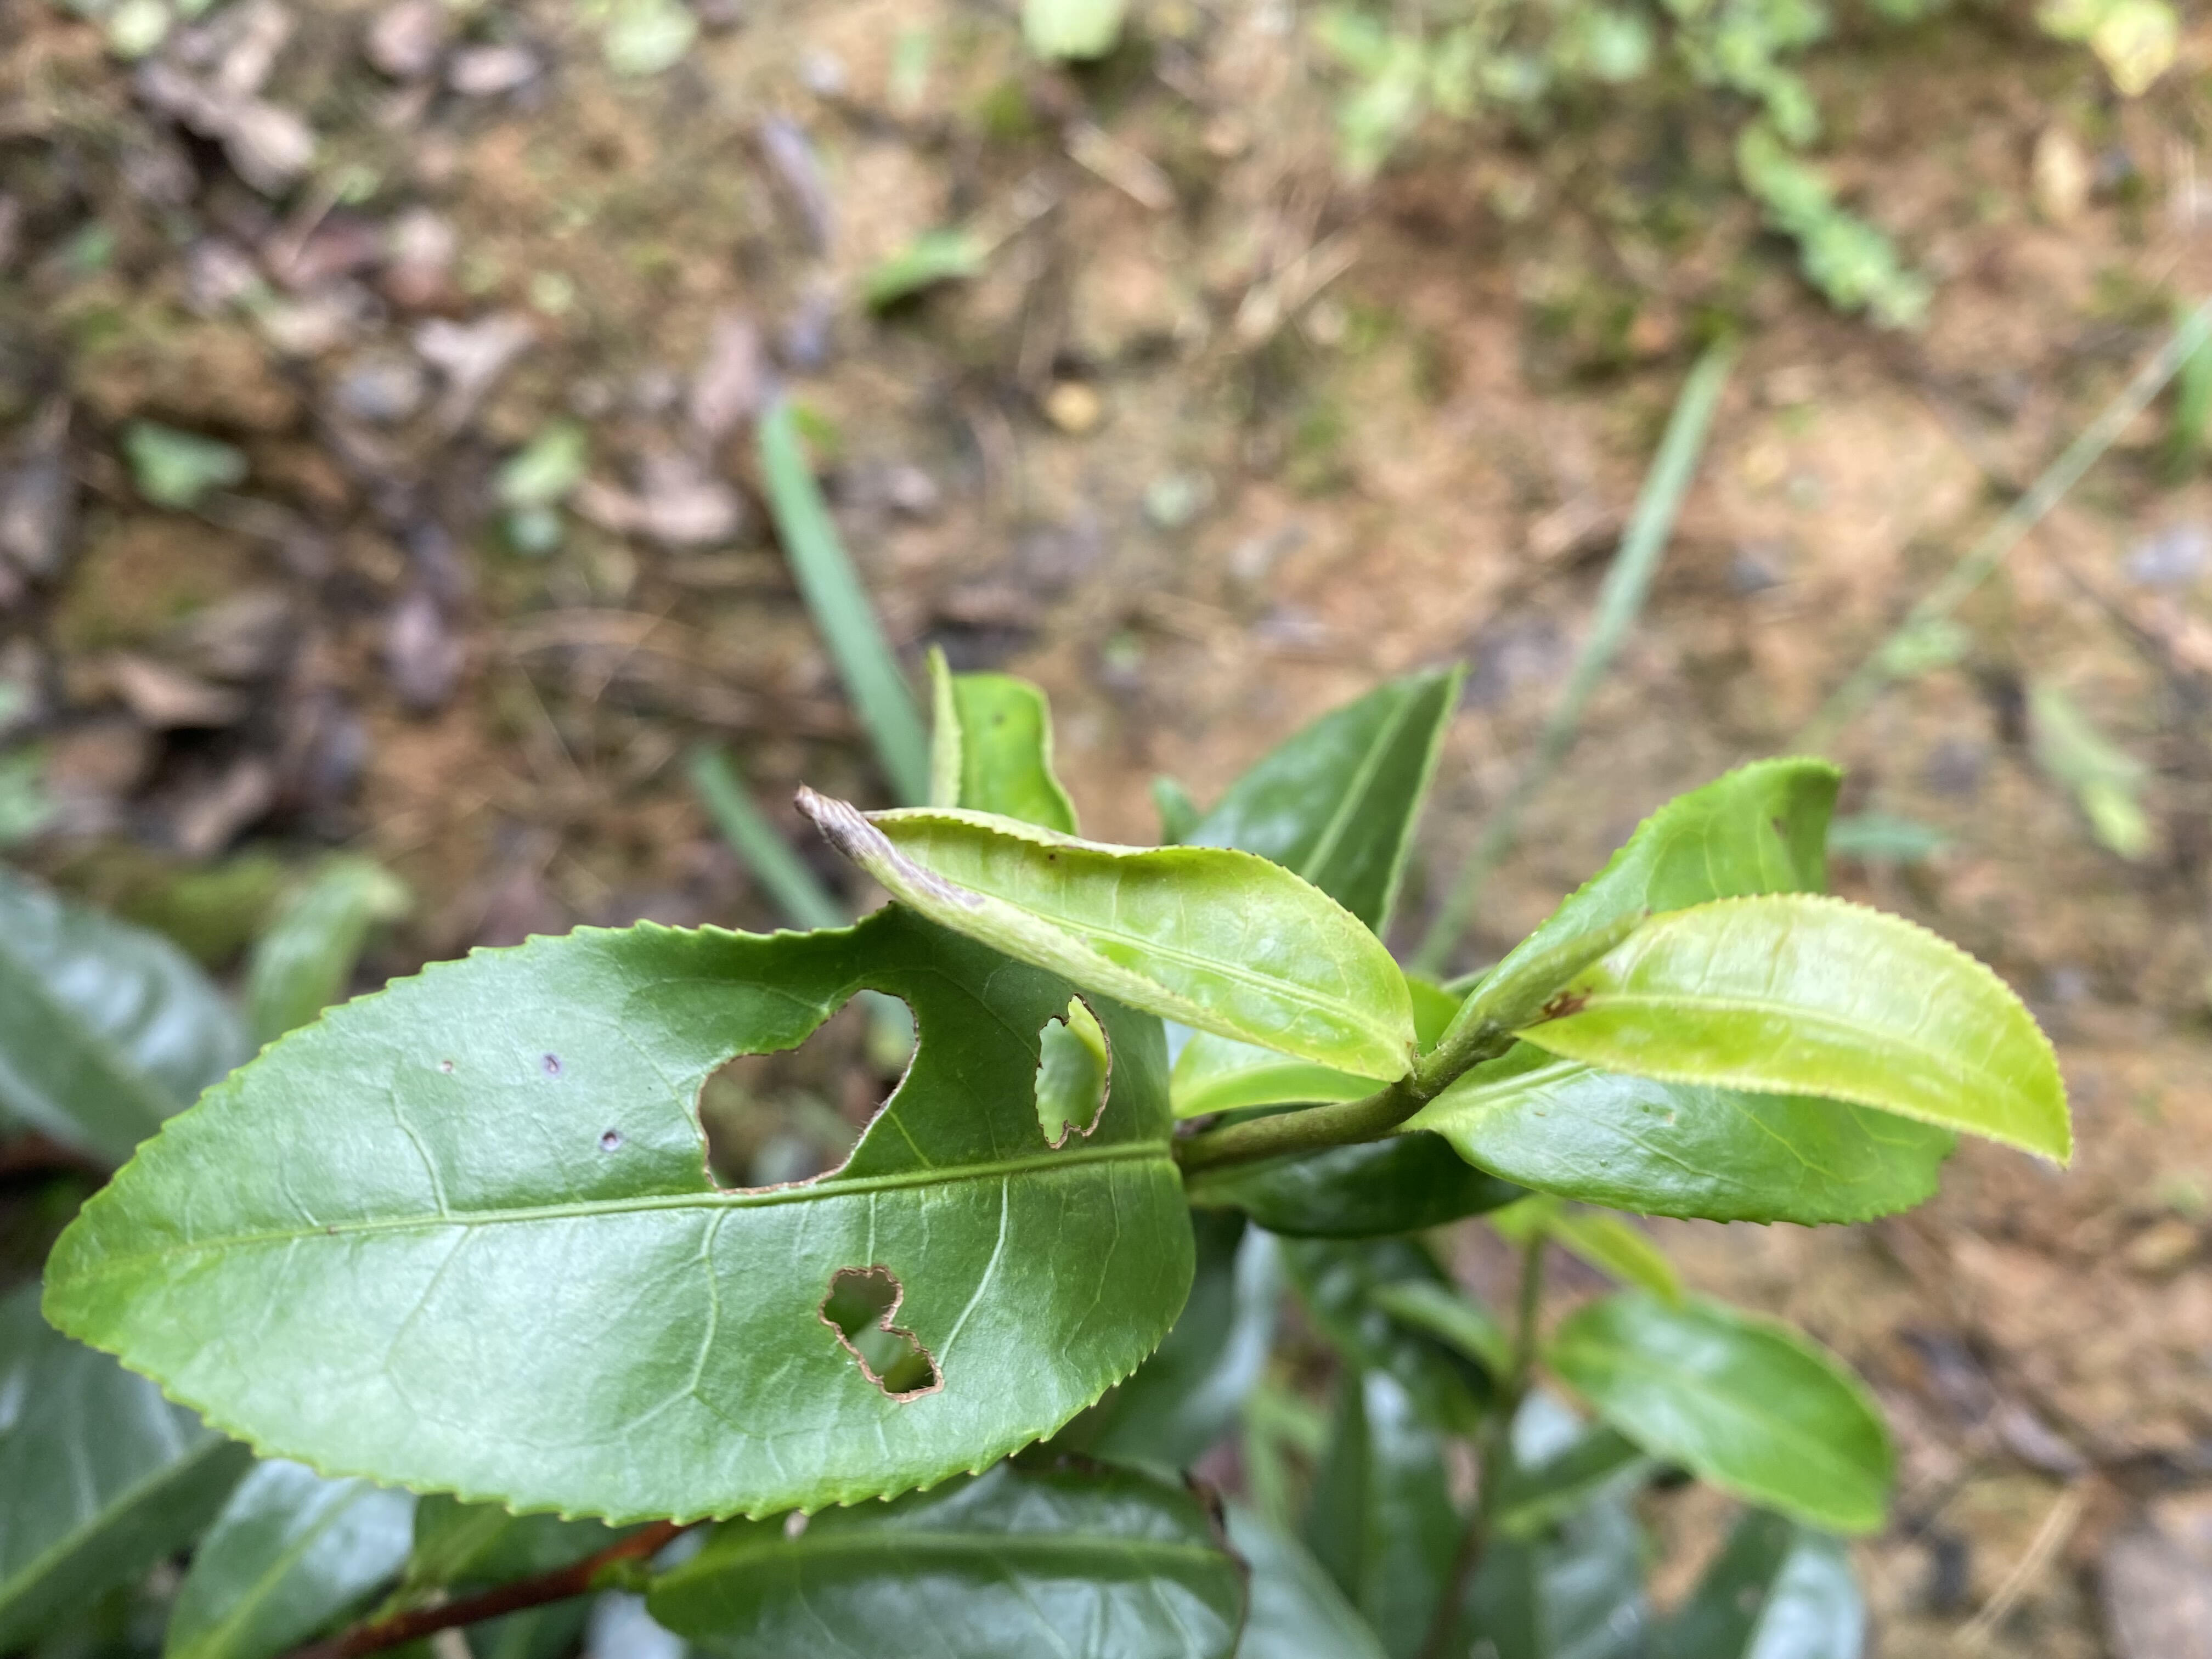chihuo_high: (40, 899, 1200, 1527)
tanju_high: (791, 784, 1420, 1082)
tanju_low: (1510, 890, 2076, 1166)
